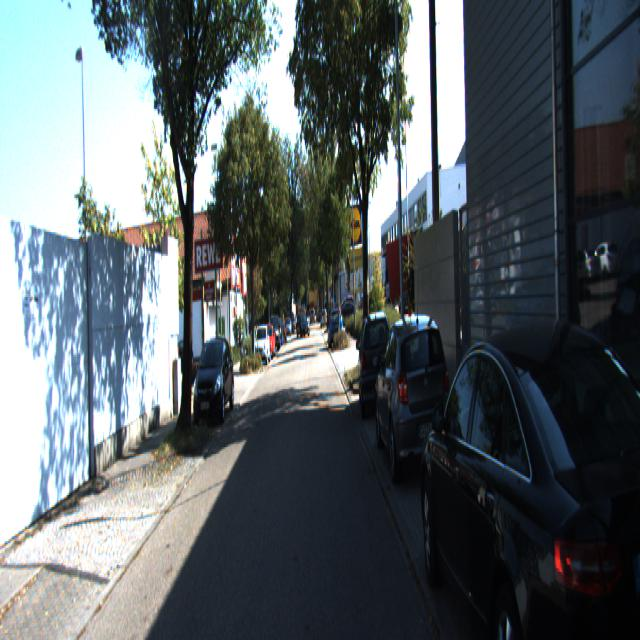Car: (411, 290, 640, 638), (374, 308, 455, 480), (357, 304, 396, 410), (193, 332, 235, 427), (254, 324, 271, 365), (328, 308, 344, 349), (260, 325, 276, 361)
